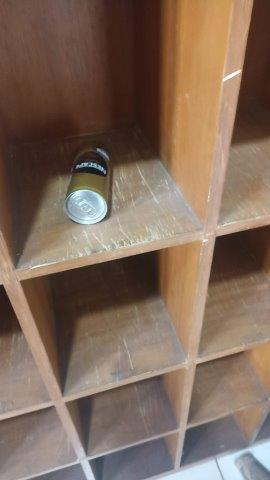kaleng: (62, 142, 112, 225)
